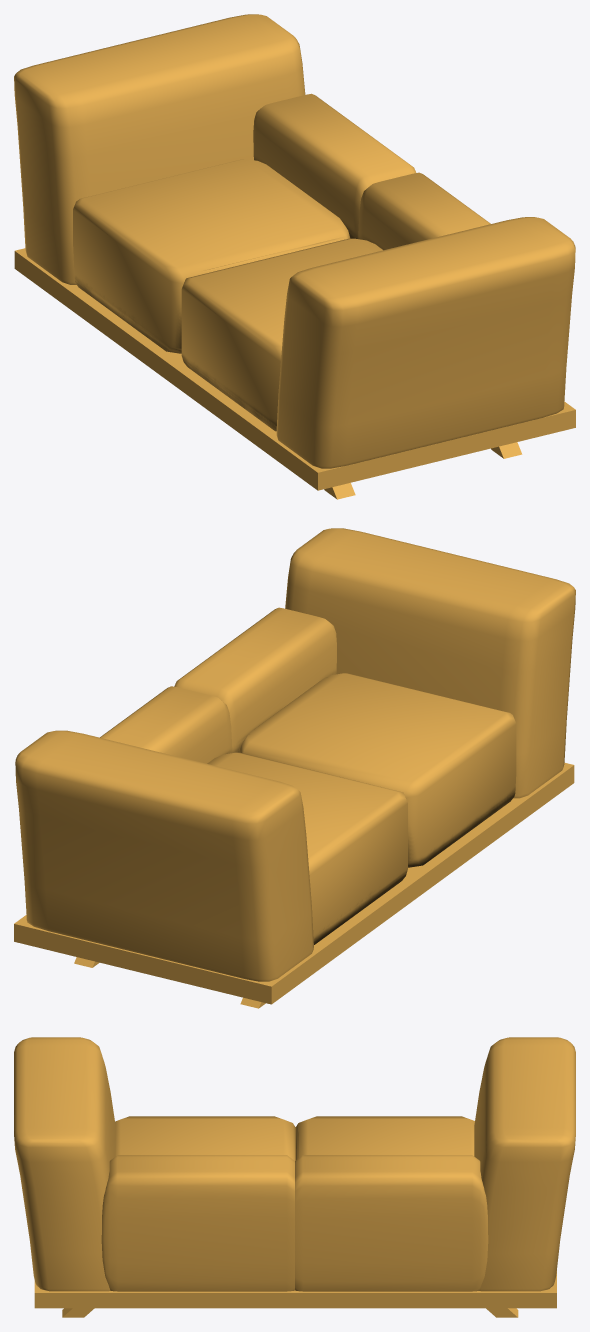
The model's file is sofa3.fbx.
3 views of the same model, one above another, from view 1: azimuth 30°, elevation 25°; view 2: azimuth 150°, elevation 25°; view 3: azimuth 270°, elevation 25° (orthographic). The views are drawn at different scales.
Visible parts, largest first — view 1: sofa3; view 2: sofa3; view 3: sofa3.
Boxes of the visible parts, x1,y1,x2,y2 form: sofa3: (14, 14, 575, 499); sofa3: (14, 528, 575, 1008); sofa3: (14, 1037, 575, 1317).
Size of the model in its own units: 1982 by 1631 by 4342.
